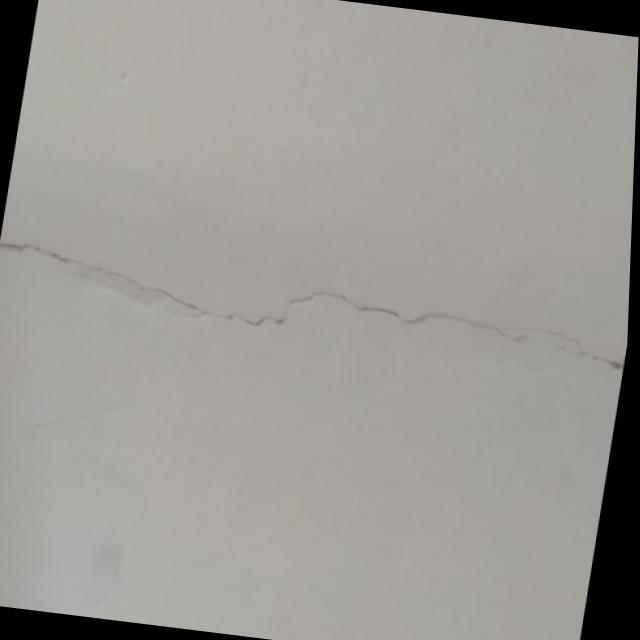Crack: (6, 236, 619, 373)
